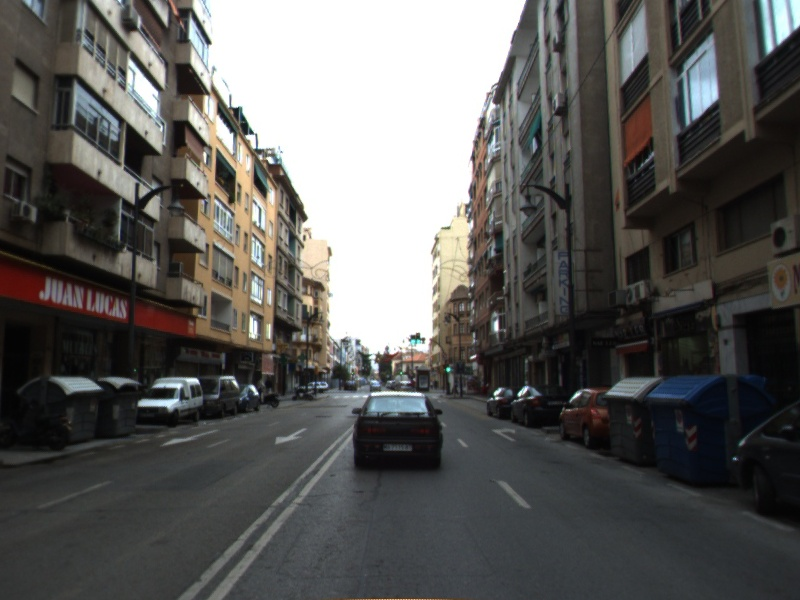RIGHT: (490, 425, 518, 443)
